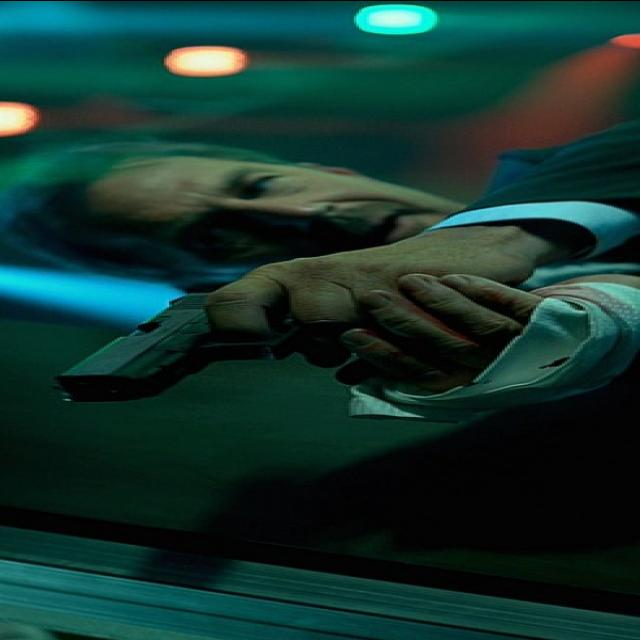weapons: (43, 274, 380, 418)
